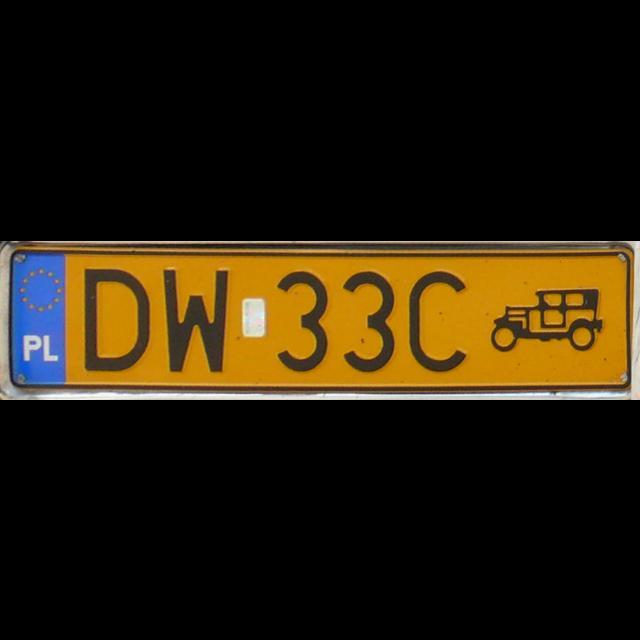license-plates: (10, 249, 633, 389)
